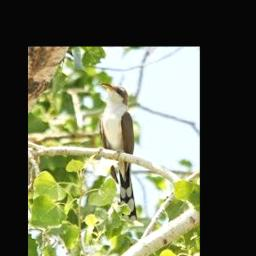Cuckoo: (99, 83, 137, 223)
